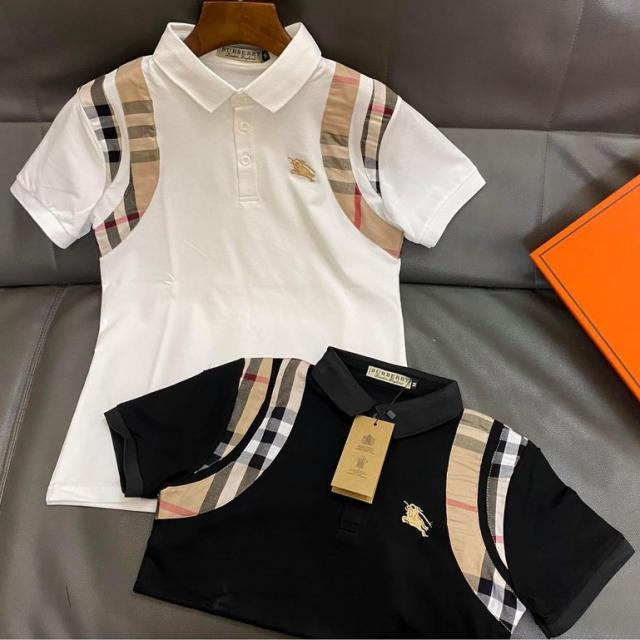Shirt: (15, 24, 480, 512), (100, 353, 640, 639)
